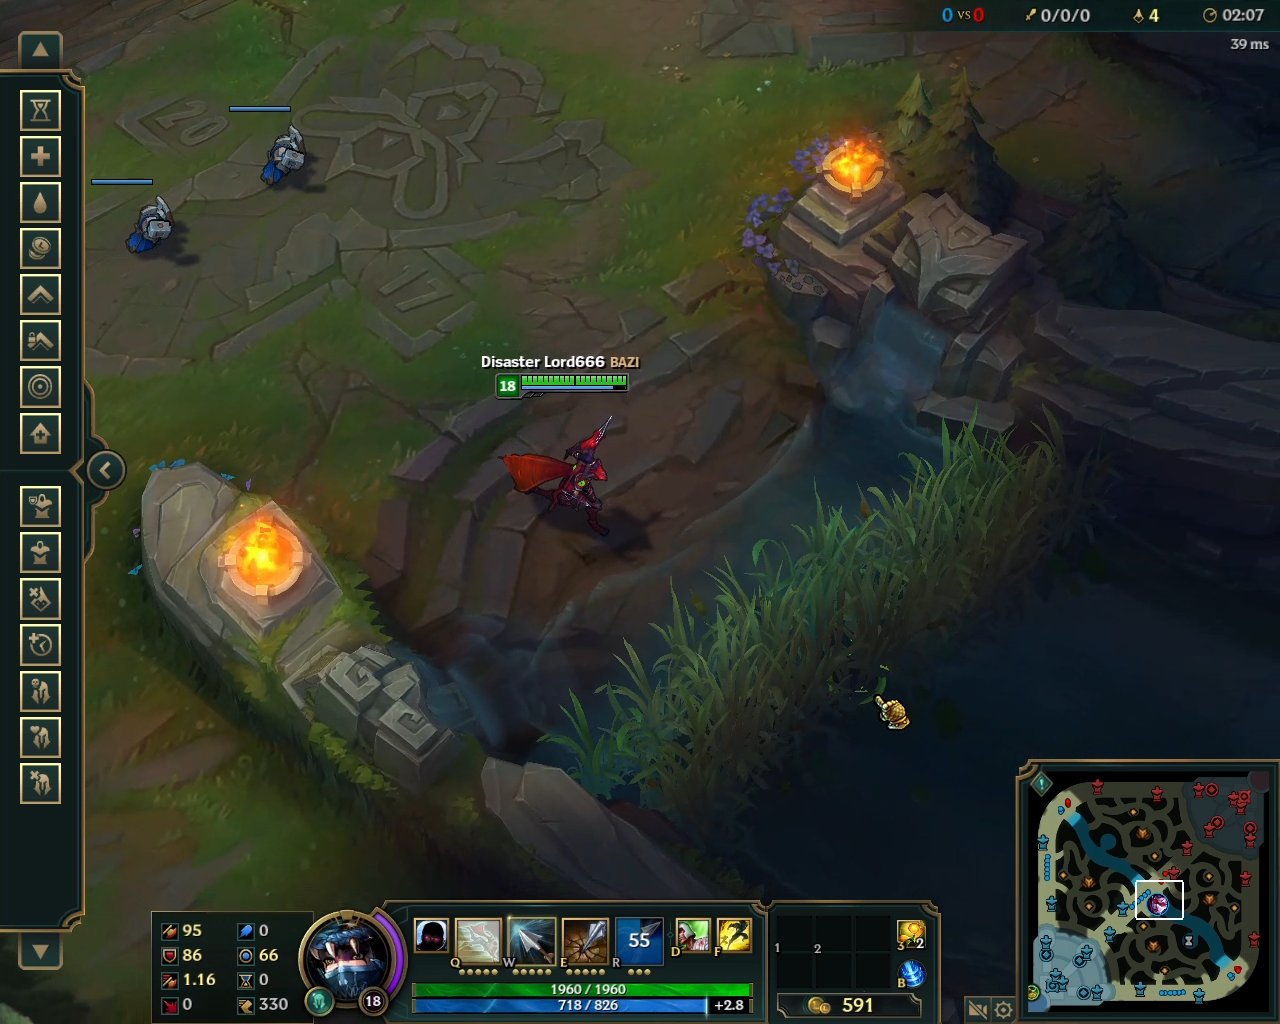Vayne: (495, 412, 624, 539)
